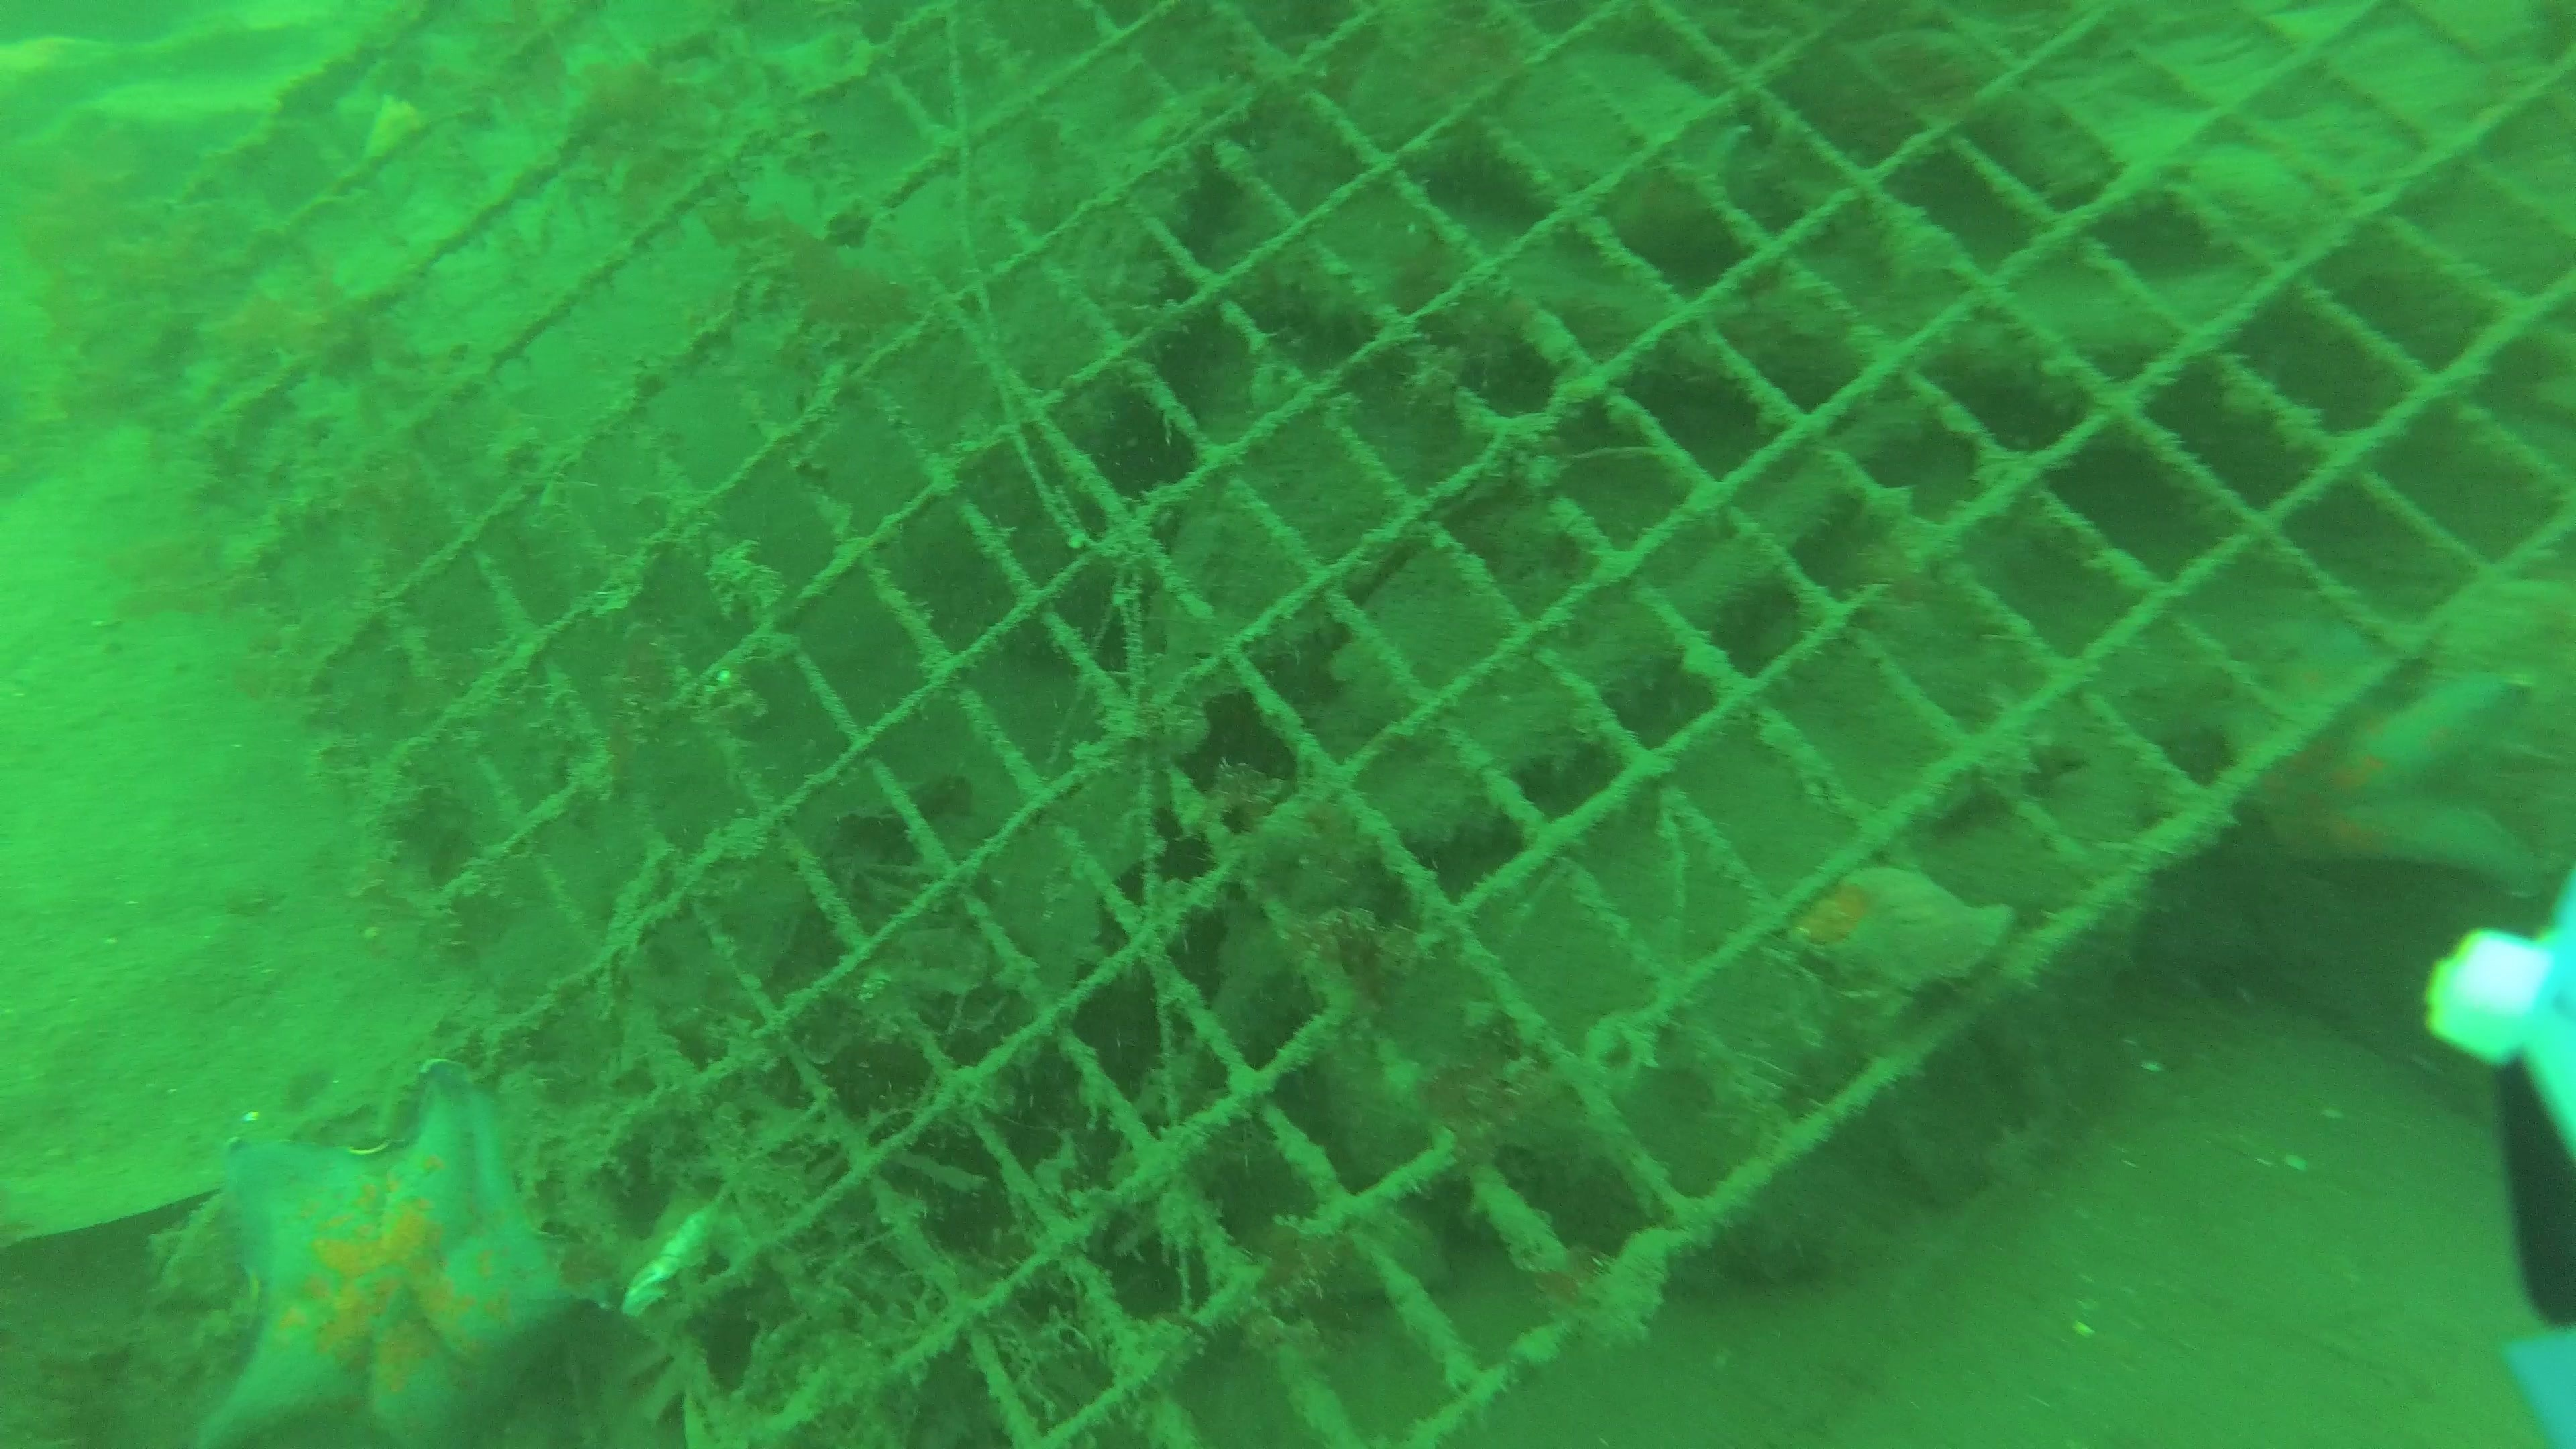starfish: (207, 1063, 579, 1449), (2220, 644, 2546, 904)
